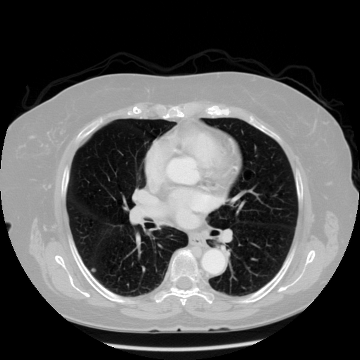nodule: (91, 268, 95, 272)
